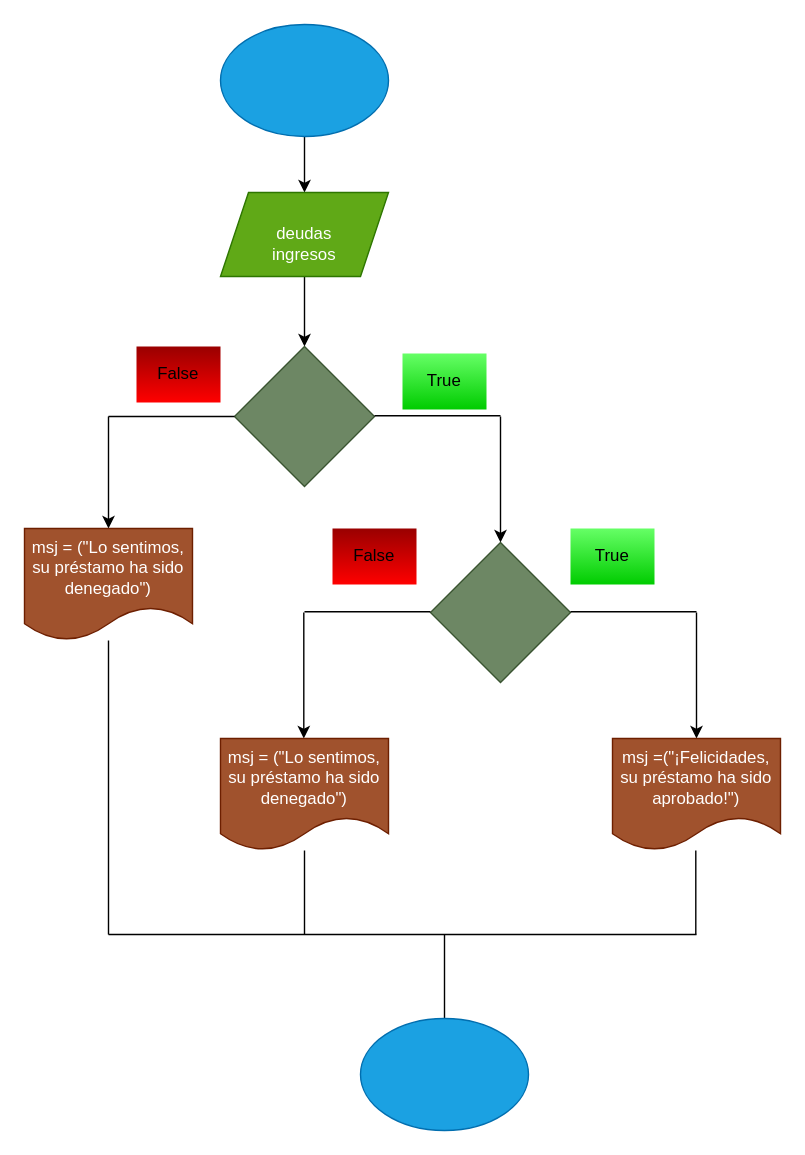
Image size: 805x1155. Some labels were removed from this diagram. The box of each missing label's shape, as (x1, y1, x2, y2) in pixels:
Fin: (359, 1017, 528, 1130)
if deudas == 0: (429, 541, 570, 682)
if ingresos > 945200: (233, 345, 374, 486)
Inicio: (219, 23, 388, 136)
